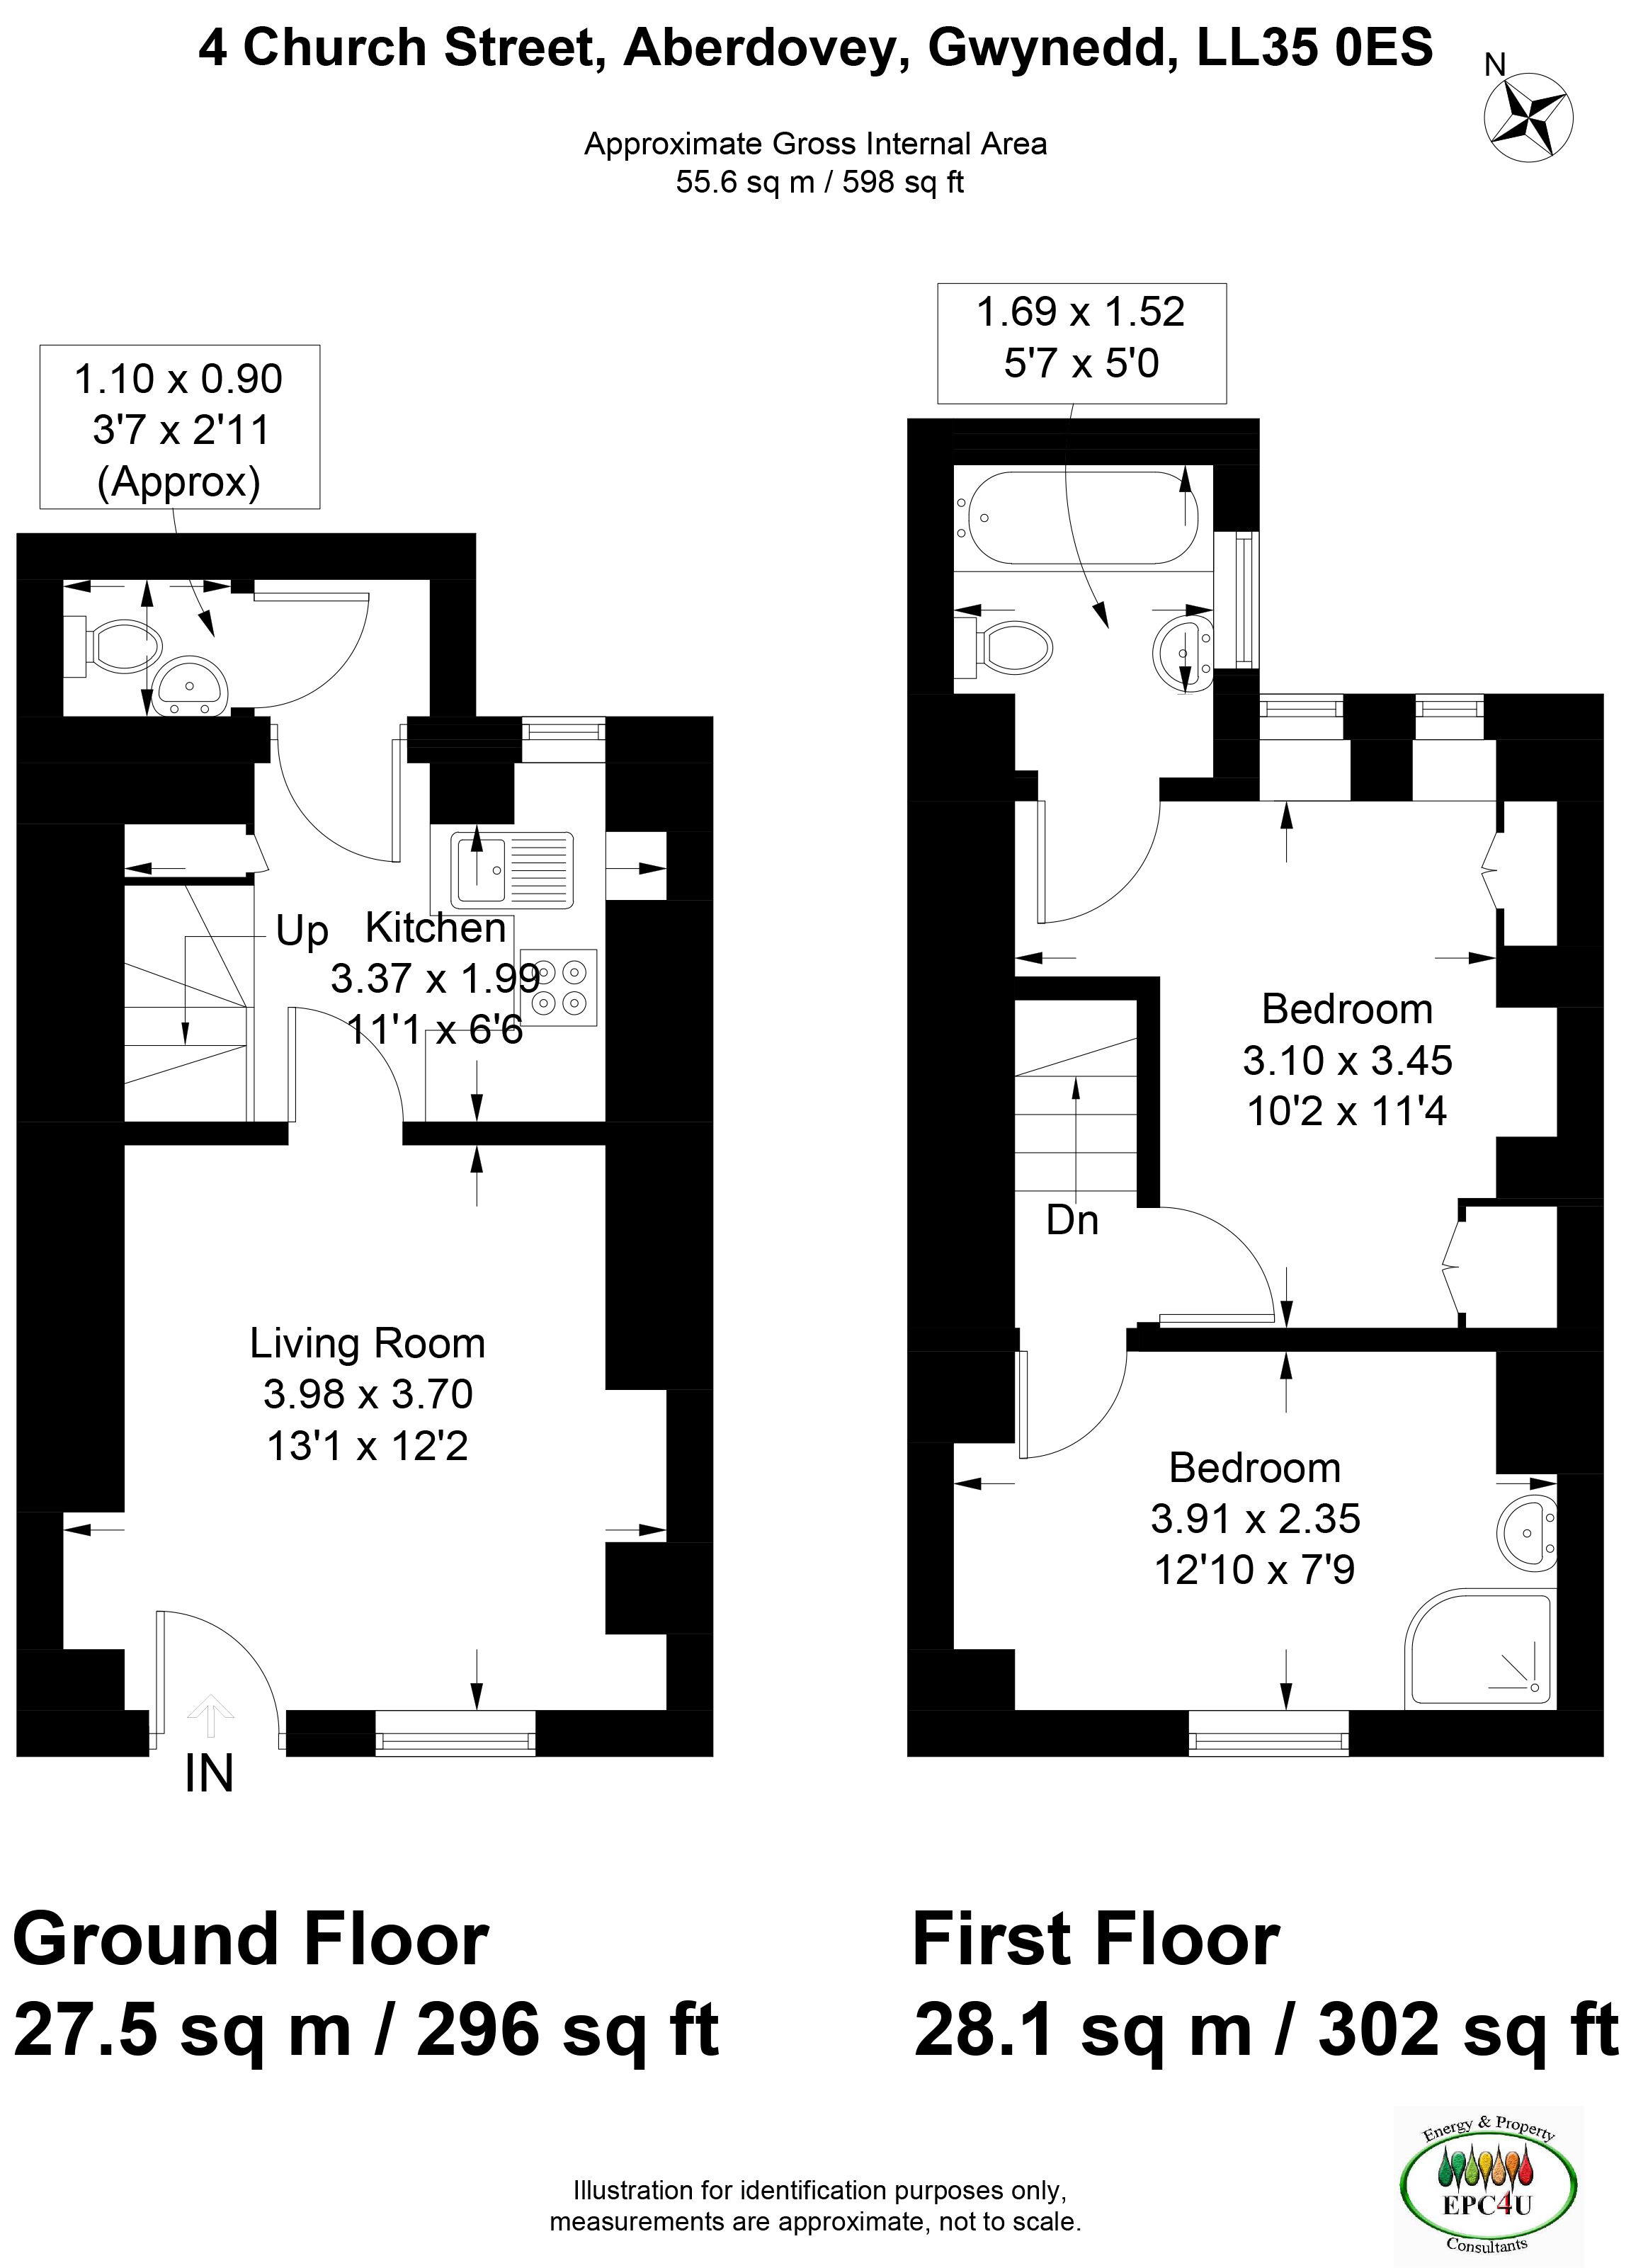window: (372, 1708, 539, 1759), (1184, 1708, 1351, 1759), (1208, 528, 1263, 671), (1256, 692, 1347, 743), (520, 715, 609, 764), (1413, 690, 1487, 741)
